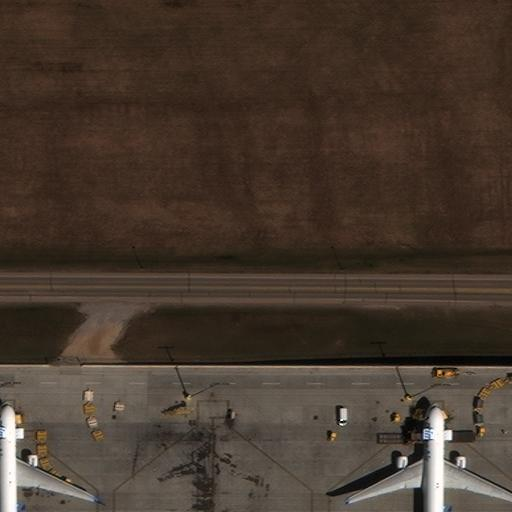Large Civil Transport: (346, 401, 512, 511), (0, 399, 97, 511)
